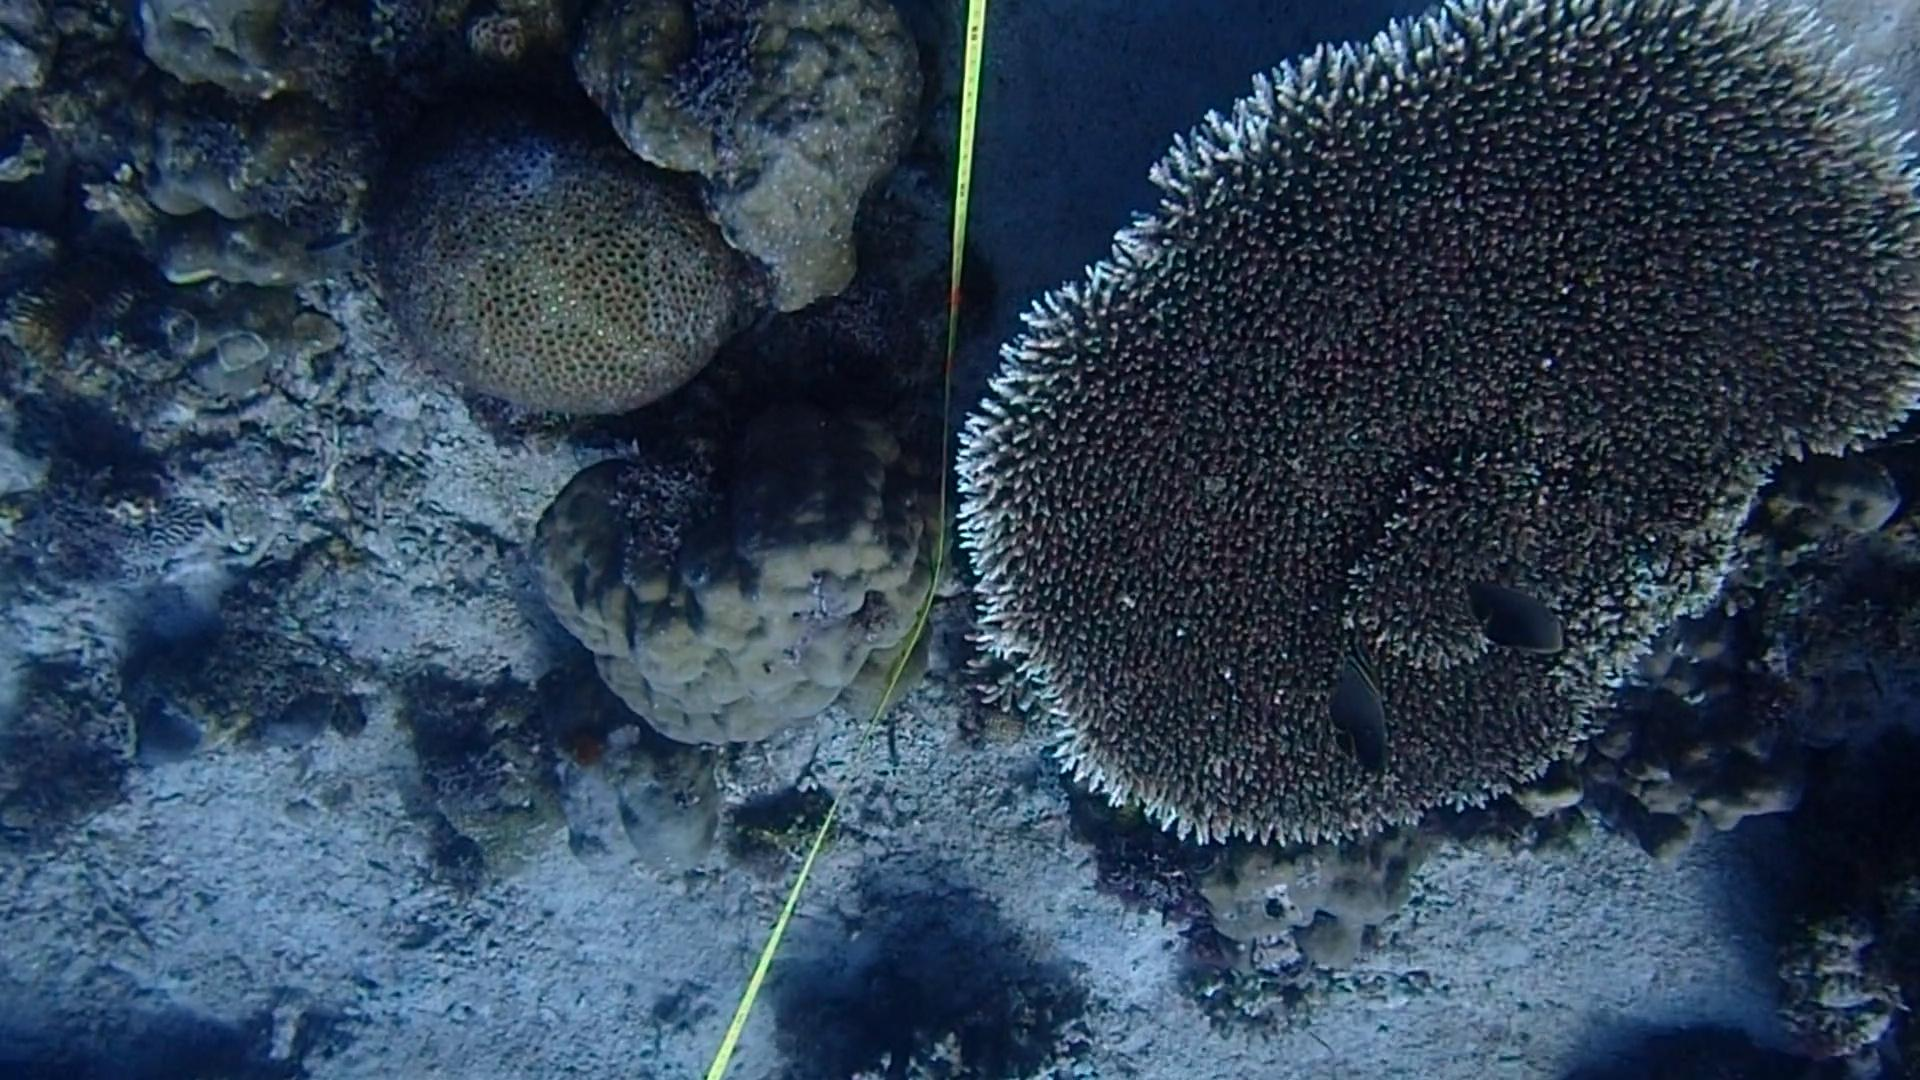Dark Blue Dory: (1466, 567, 1582, 669), (1317, 653, 1404, 779)
Light Fish: (289, 211, 361, 272)
